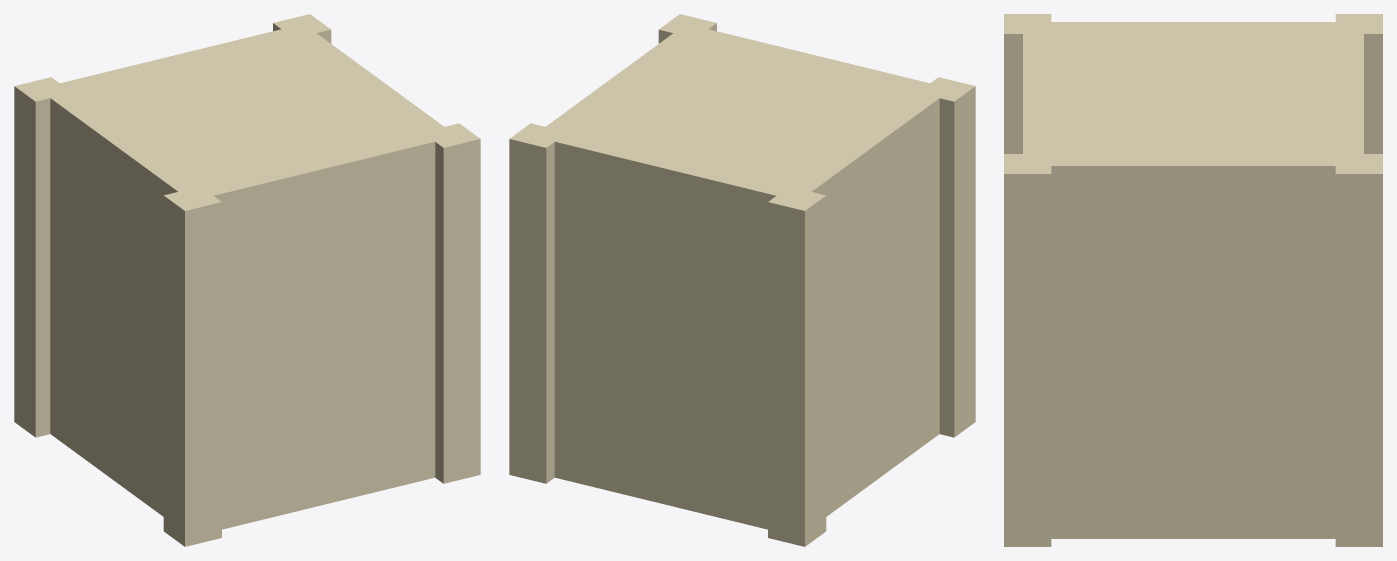
File: towersquaremid.glb
The picture shows the model from 3 angles, left to right: view 1: azimuth 30°, elevation 25°; view 2: azimuth 150°, elevation 25°; view 3: azimuth 270°, elevation 25°; orthographic projection. The views are drawn at different scales.
Parts seen in each view (by area): view 1: towerSquareMid; view 2: towerSquareMid; view 3: towerSquareMid.
Part boxes in pixels (x1,y1,x2,y2): towerSquareMid: [14, 14, 480, 546]; towerSquareMid: [509, 14, 975, 546]; towerSquareMid: [1004, 14, 1382, 546].
Bounding box in the file's own units: 9.3 × 10.1 × 9.3.
